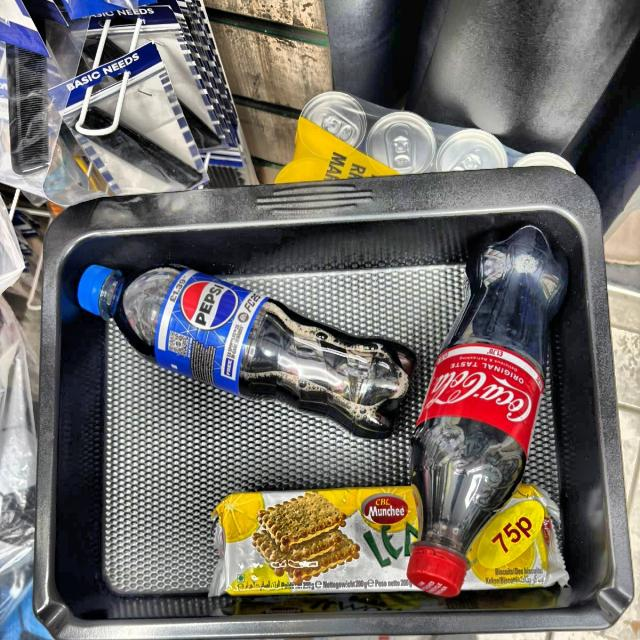coke-bottle: (409, 234, 549, 616)
lemon puff: (210, 488, 570, 598)
pepsi-bottle: (76, 262, 404, 428)
